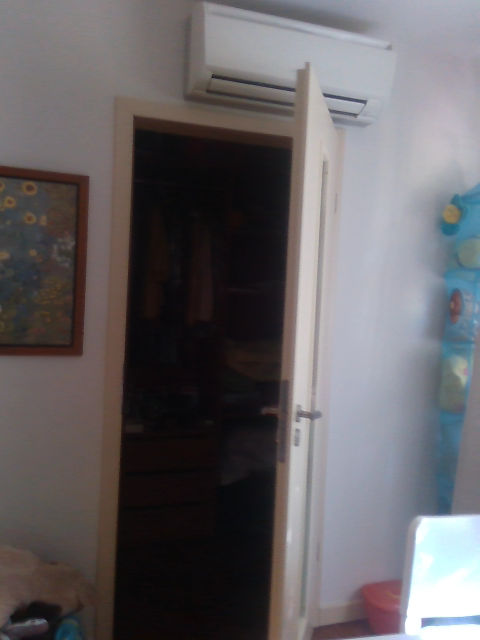semi: (93, 67, 346, 639)
